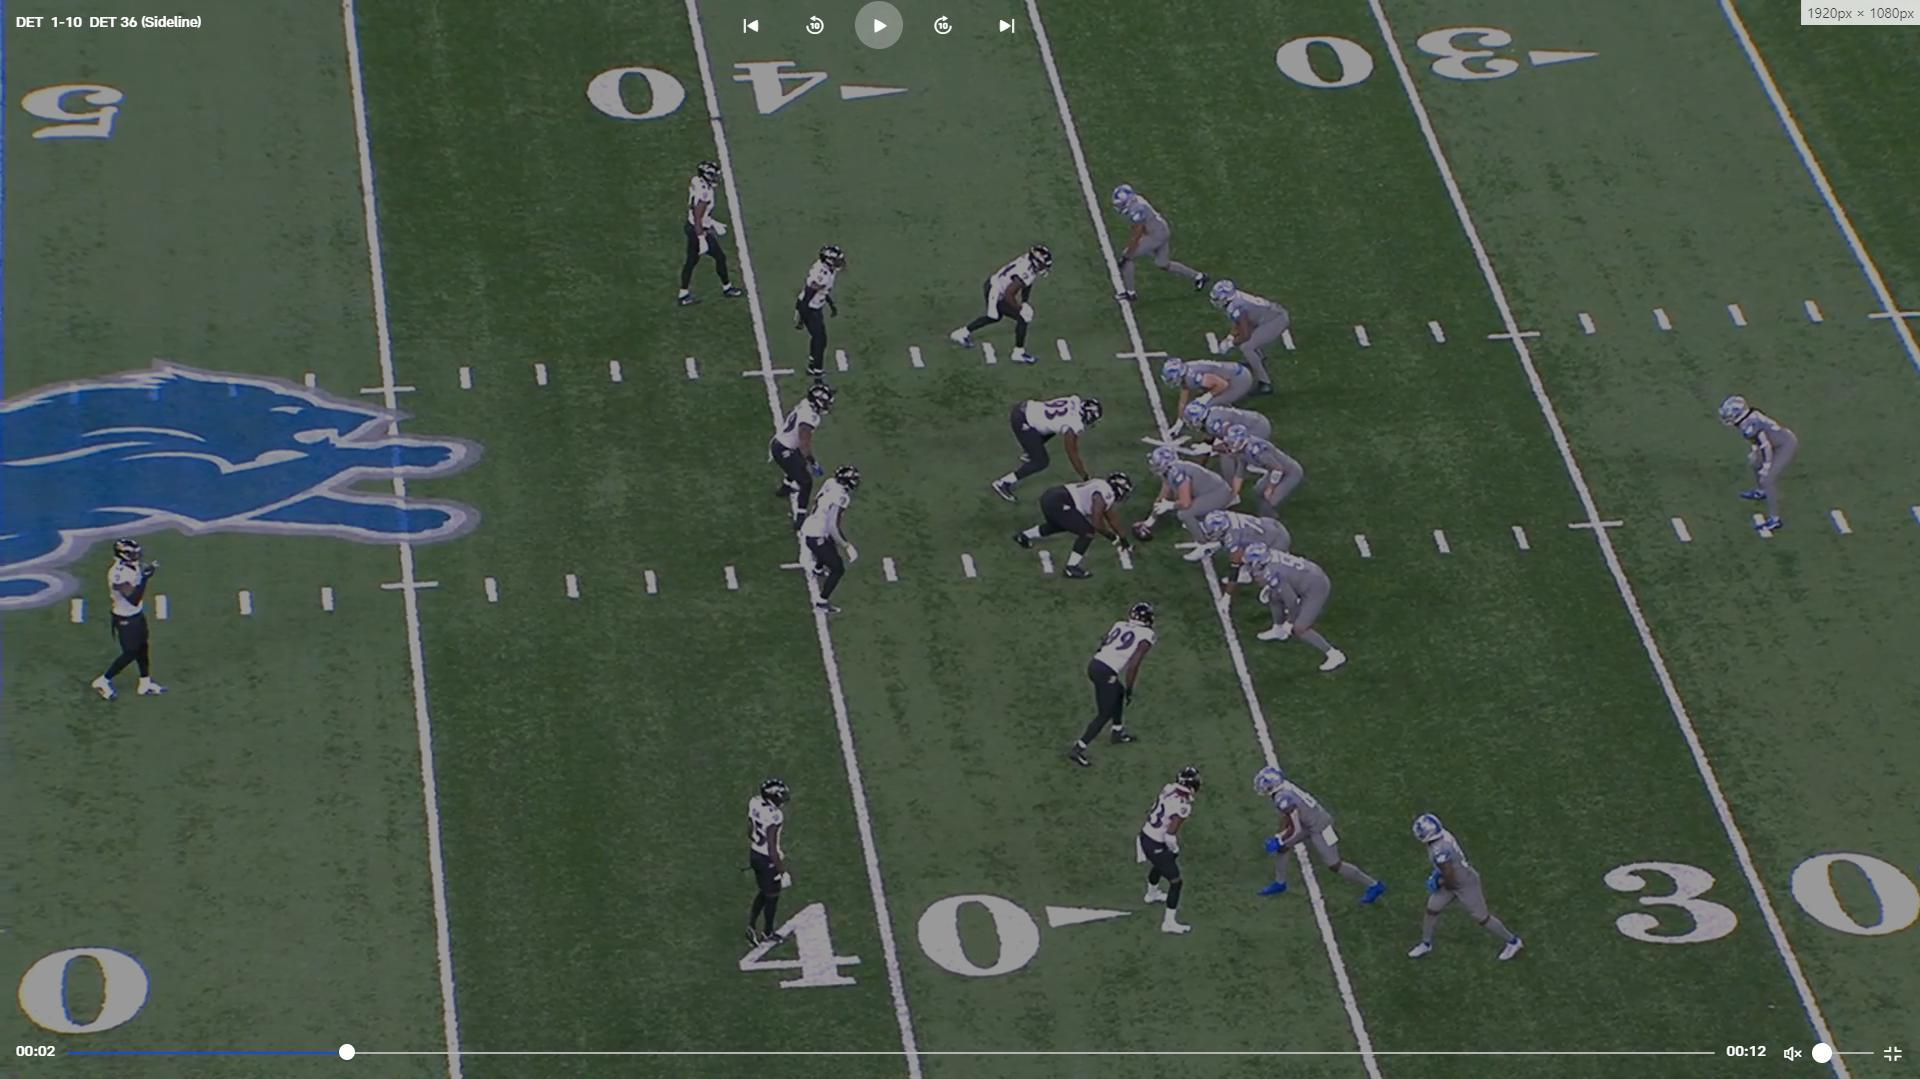defense: (1059, 601, 1158, 778), (946, 241, 1060, 370), (1014, 470, 1140, 585), (90, 533, 168, 716), (987, 389, 1104, 501), (740, 771, 805, 970), (1127, 764, 1197, 942), (800, 462, 867, 621), (677, 155, 742, 312), (767, 386, 834, 532), (799, 239, 854, 399)
oline: (1240, 543, 1349, 676), (1137, 446, 1236, 563), (1201, 508, 1294, 607), (1156, 353, 1253, 440), (1179, 396, 1277, 449)
qb: (1232, 427, 1307, 523)
skill: (1250, 762, 1385, 906), (1408, 814, 1531, 969), (1715, 391, 1807, 543), (1110, 179, 1214, 304), (1209, 277, 1306, 402)
